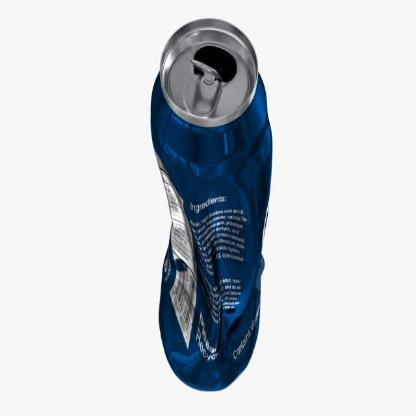Can: (148, 9, 276, 412)
